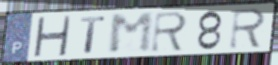8: (197, 9, 223, 50)
H: (31, 16, 73, 57)
M: (108, 11, 155, 56)
R: (148, 10, 190, 54), (227, 7, 268, 51)
T: (79, 15, 107, 55)
